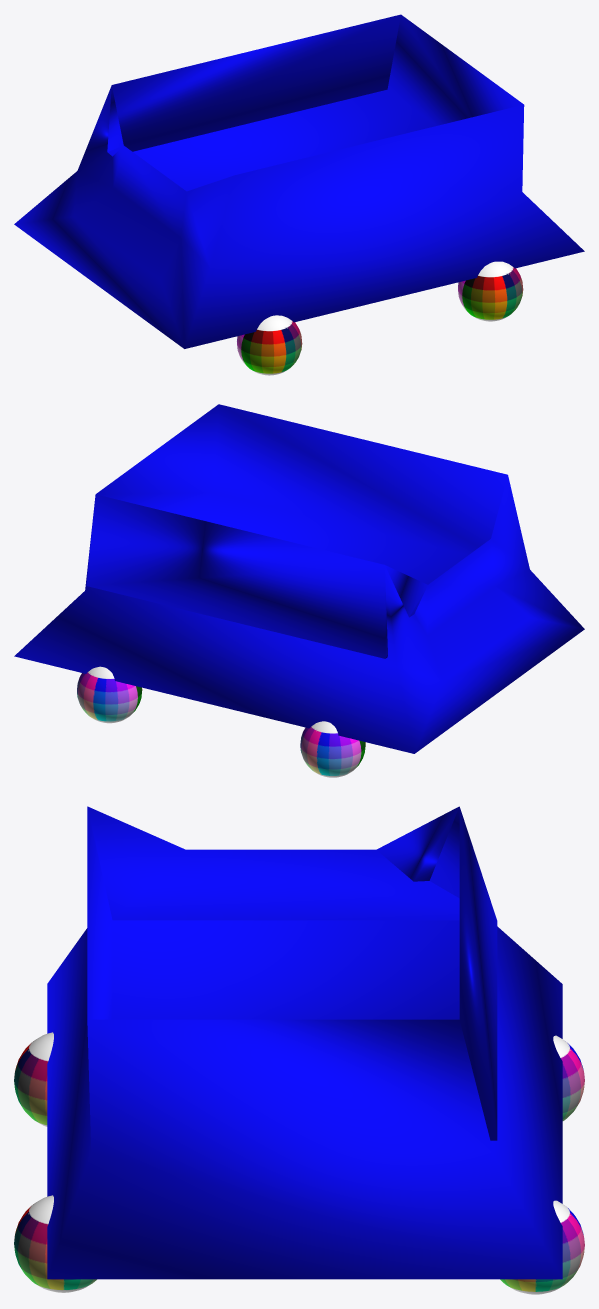
3 renders of one model, top to bottom at view 1: azimuth 30°, elevation 25°; view 2: azimuth 150°, elevation 25°; view 3: azimuth 270°, elevation 25°, orthographic. The views are drawn at different scales.
Parts seen in each view (by area): view 1: Sphere.005; view 2: Sphere.005; view 3: Sphere.005.
Boxes of the visible parts, <box> form: Sphere.005: <box>14,14,584,375</box>; Sphere.005: <box>14,404,584,777</box>; Sphere.005: <box>14,806,584,1294</box>.
Bounding box in the file's own units: 357 × 169 × 292.
Materials: 5 (5 with a texture image).
